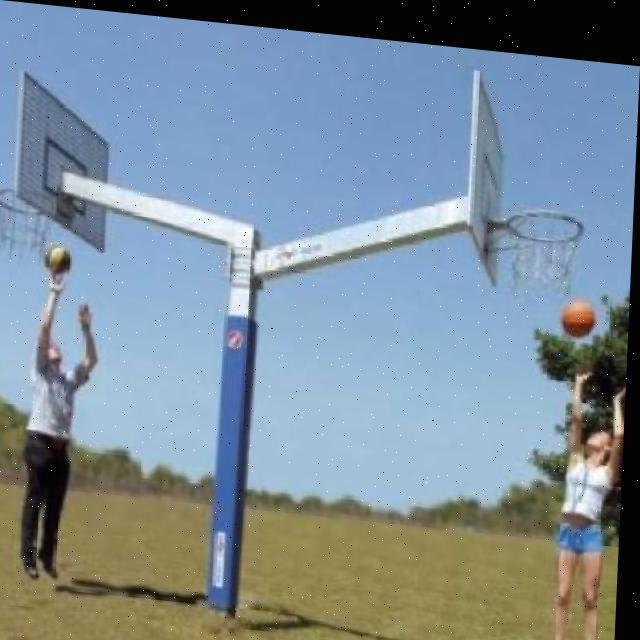basketball: (560, 296, 597, 340), (42, 240, 76, 277)
hoop: (503, 204, 587, 302), (0, 185, 57, 265)
